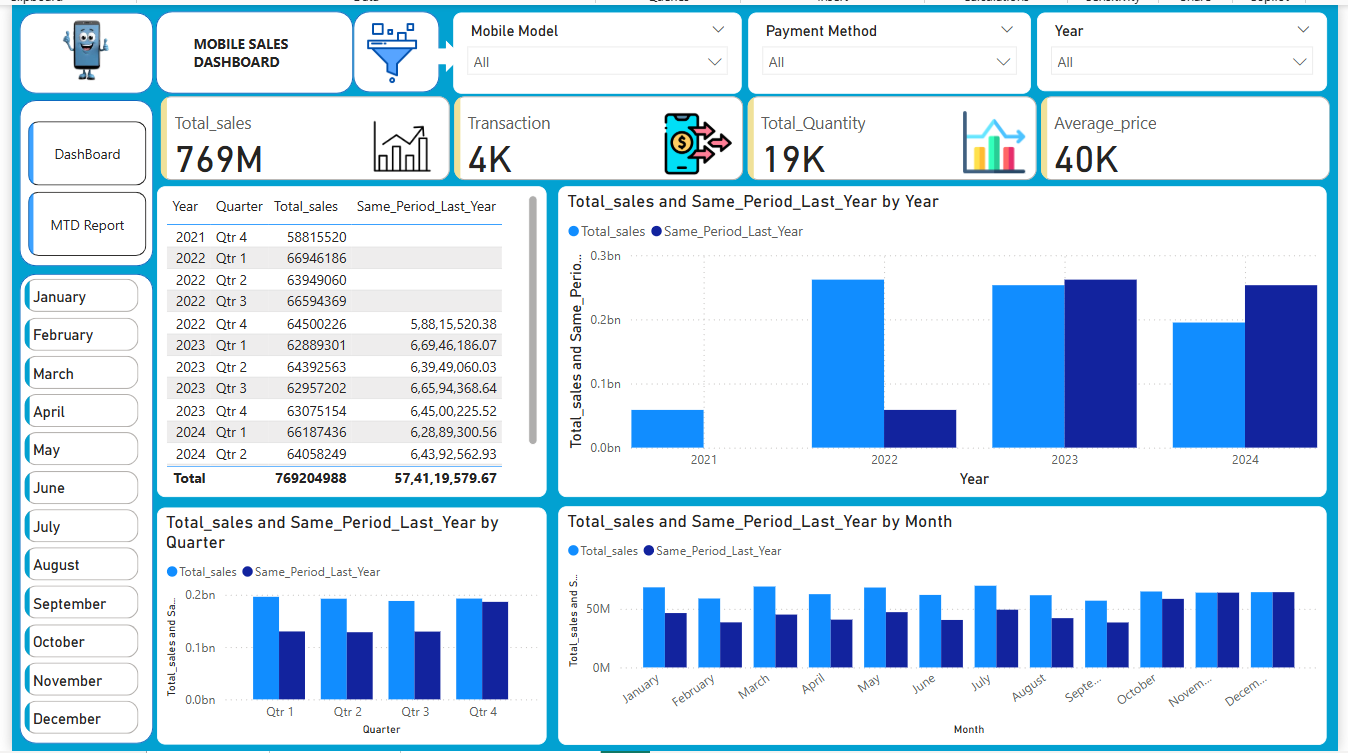

This screenshot's page, from the dashboard's own definition file:
{"tool":"powerbi","page":{"name":"Same Period Last Year","canvas":[1280,720],"ordinal":2},"visuals":[{"type":"shape","box":[7.2,7.2,129.1,78.4],"z":0},{"type":"shape","box":[7.2,91.7,129.1,160.5],"z":1000},{"type":"image","box":[31.4,0,78.4,85.7],"z":2000},{"type":"cardVisual","fields":{"Data":["Measure.Total_sales","Measure.Transaction","Measure.Total_Quantity","Measure.Average_price"]},"box":[139.2,83.8,1140.5,91.9],"z":3000},{"type":"slicer","fields":{"Values":["Sales_data.Mobile Model"]},"box":[425.9,7.2,278.7,78.4],"z":4000},{"type":"slicer","fields":{"Values":["Sales_data.Payment Method"]},"box":[710.6,7.2,272.7,78.4],"z":5000},{"type":"slicer","fields":{"Values":["Custom_Calender.Date.Variation.Date Hierarchy.Year"]},"box":[989.3,7.2,279.9,76],"z":6000},{"type":"shape","box":[329.4,6,83.2,78.4],"z":7000},{"type":"image","box":[329.4,12.1,74.8,68.8],"z":8000},{"type":"shape","box":[390.9,33.8,43.4,31.4],"z":9000},{"type":"shape","box":[138.7,6,190.6,79.6],"z":10000},{"type":"textbox","box":[170.1,22.9,129.1,53.1],"z":11000},{"type":"tableEx","fields":{"Values":["Custom_Calender.Date.Variation.Date Hierarchy.Year","Custom_Calender.Date.Variation.Date Hierarchy.Quarter","Measure.Total_sales","Measure.Same_Period_Last_Year"]},"box":[140.3,175,376.4,300],"z":12000},{"type":"shape","box":[7.2,259.4,129.1,453.6],"z":13000},{"type":"advancedSlicerVisual","fields":{"Values":["Custom_Calender.Date.Variation.Date Hierarchy.Month"]},"box":[7.2,259.1,120.6,460.9],"z":14000},{"type":"clusteredColumnChart","fields":{"Category":["Custom_Calender.Date.Variation.Date Hierarchy.Year","Custom_Calender.Date.Variation.Date Hierarchy.Quarter"],"Y":["Measure.Total_sales","Measure.Same_Period_Last_Year"]},"box":[527.8,175,741.7,300],"z":15000},{"type":"clusteredColumnChart","fields":{"Category":["Custom_Calender.Date.Variation.Date Hierarchy.Year","Custom_Calender.Date.Variation.Date Hierarchy.Quarter"],"Y":["Measure.Total_sales","Measure.Same_Period_Last_Year"]},"box":[140.3,484.7,376.4,229.2],"z":16000},{"type":"clusteredColumnChart","fields":{"Category":["Custom_Calender.Date.Variation.Date Hierarchy.Year","Custom_Calender.Date.Variation.Date Hierarchy.Quarter","Custom_Calender.Date.Variation.Date Hierarchy.Month"],"Y":["Measure.Total_sales","Measure.Same_Period_Last_Year"]},"box":[527.8,483.3,741.7,230.6],"z":17000},{"type":"pageNavigator","box":[15.7,112.2,114.6,130.3],"z":18000}]}

Visuals, with their boxes on the page's 1280x720 design canvas (x1, y1, x2, y2). These are canvas units, not pixel positions in the 1348x753 screenshot, which may show the page scaled, cropped or inside an application window:
shape: left=7, top=7, right=136, bottom=86
shape: left=7, top=92, right=136, bottom=252
image: left=31, top=0, right=110, bottom=86
cardVisual - Measure.Total_sales x Measure.Transaction: left=139, top=84, right=1280, bottom=176
slicer - Sales_data.Mobile Model: left=426, top=7, right=705, bottom=86
slicer - Sales_data.Payment Method: left=711, top=7, right=983, bottom=86
slicer - Custom_Calender.Date.Variation.Date Hierarchy.Year: left=989, top=7, right=1269, bottom=83
shape: left=329, top=6, right=413, bottom=84
image: left=329, top=12, right=404, bottom=81
shape: left=391, top=34, right=434, bottom=65
shape: left=139, top=6, right=329, bottom=86
textbox: left=170, top=23, right=299, bottom=76
tableEx - Custom_Calender.Date.Variation.Date Hierarchy.Year x Custom_Calender.Date.Variation.Date Hierarchy.Quarter: left=140, top=175, right=517, bottom=475
shape: left=7, top=259, right=136, bottom=713
advancedSlicerVisual - Custom_Calender.Date.Variation.Date Hierarchy.Month: left=7, top=259, right=128, bottom=720
clusteredColumnChart - Custom_Calender.Date.Variation.Date Hierarchy.Year x Custom_Calender.Date.Variation.Date Hierarchy.Quarter: left=528, top=175, right=1270, bottom=475
clusteredColumnChart - Custom_Calender.Date.Variation.Date Hierarchy.Year x Custom_Calender.Date.Variation.Date Hierarchy.Quarter: left=140, top=485, right=517, bottom=714
clusteredColumnChart - Custom_Calender.Date.Variation.Date Hierarchy.Year x Custom_Calender.Date.Variation.Date Hierarchy.Quarter: left=528, top=483, right=1270, bottom=714
pageNavigator: left=16, top=112, right=130, bottom=242
